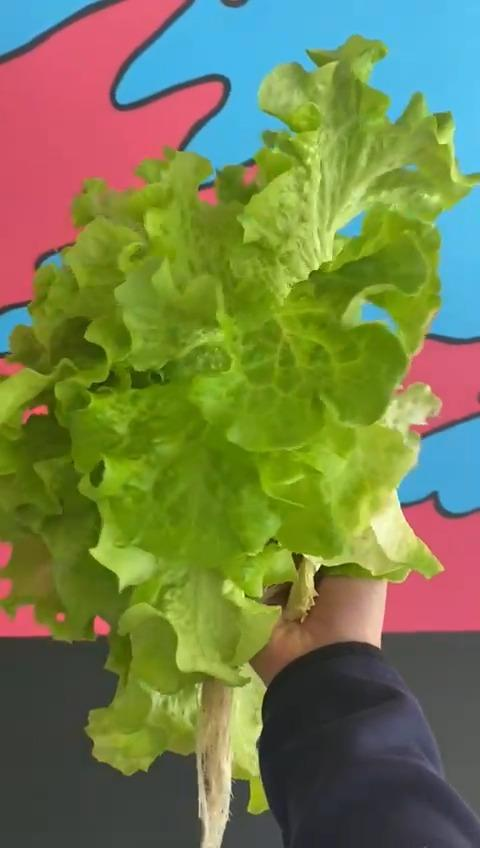Healthy Lettuce: (0, 35, 472, 818)
